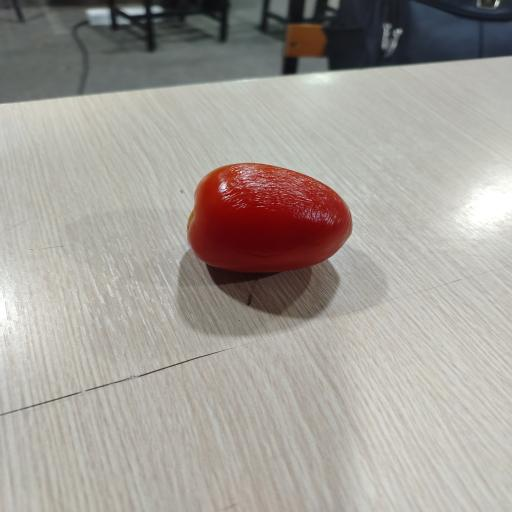spoiled: (187, 163, 352, 273)
